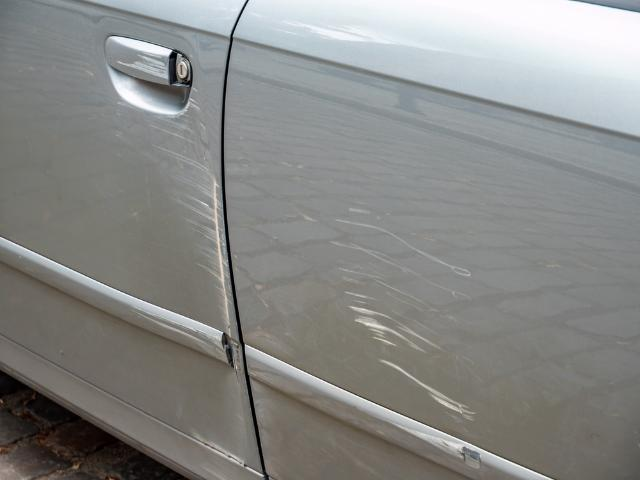scratch: (329, 204, 475, 429), (110, 86, 238, 338), (131, 307, 229, 359), (387, 421, 483, 471), (120, 44, 168, 80)
